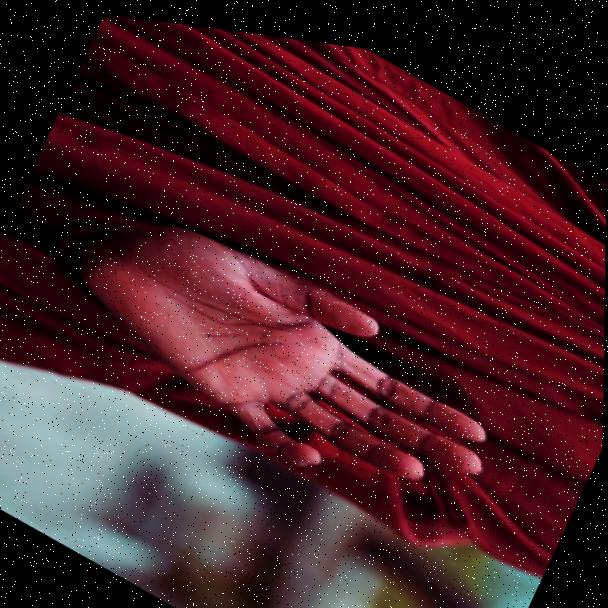five: (42, 155, 526, 549)
